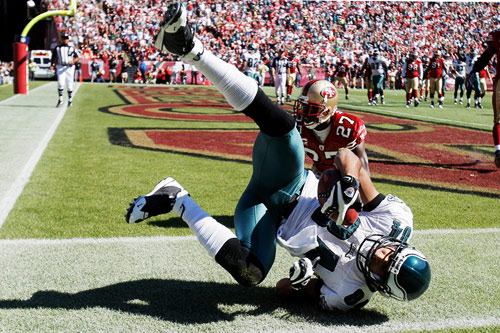fall: (117, 7, 390, 320)
